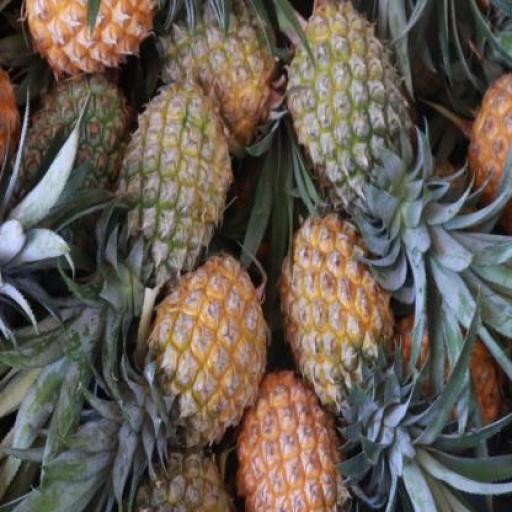------------------------------: (285, 2, 405, 216), (118, 87, 224, 283), (158, 2, 276, 146)
Pineapple - v8 v1: (278, 211, 387, 407), (150, 253, 262, 442), (234, 365, 347, 512)
